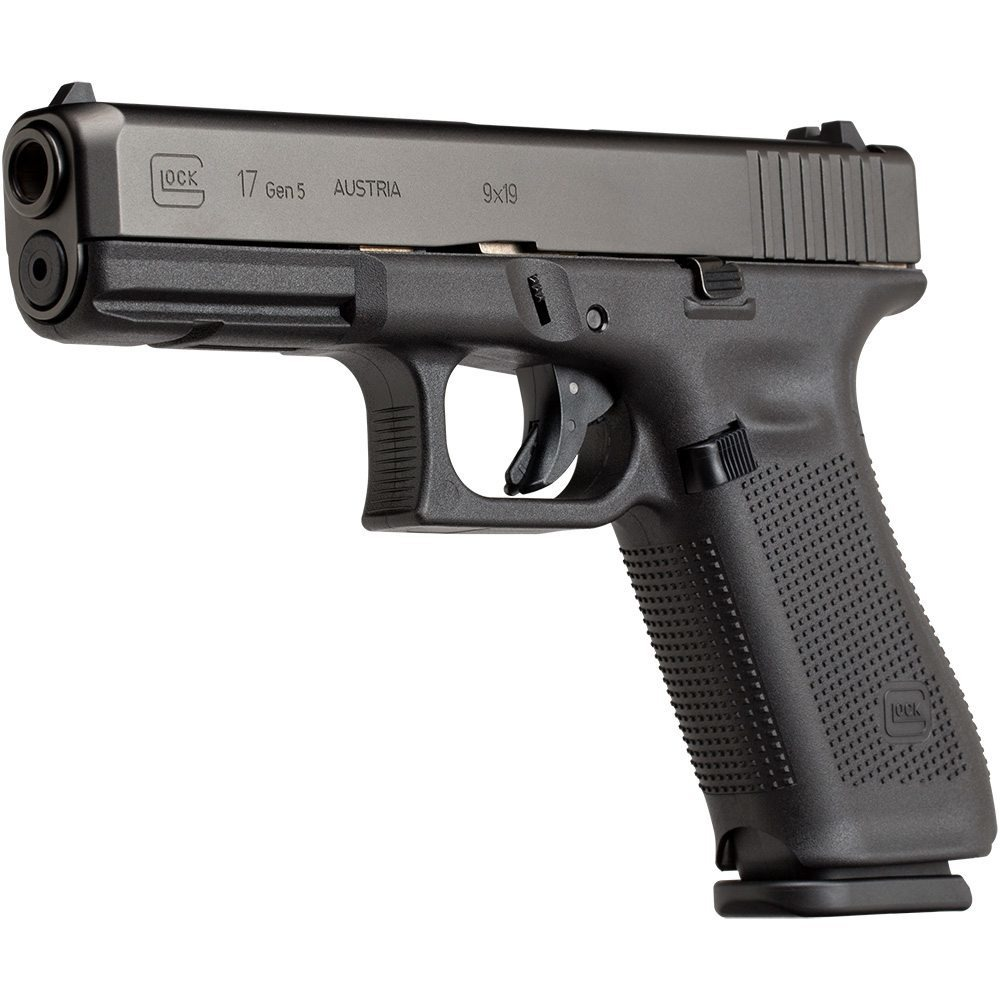gun: (7, 63, 990, 922)
